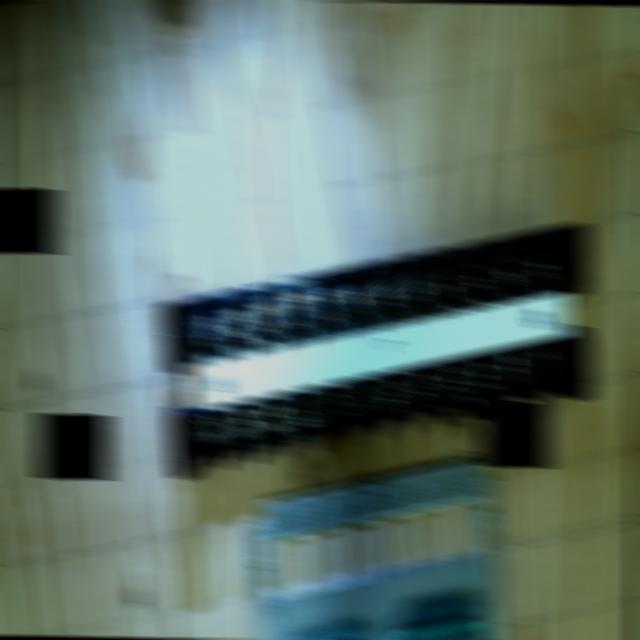Phillips_Block: (139, 223, 621, 478)
